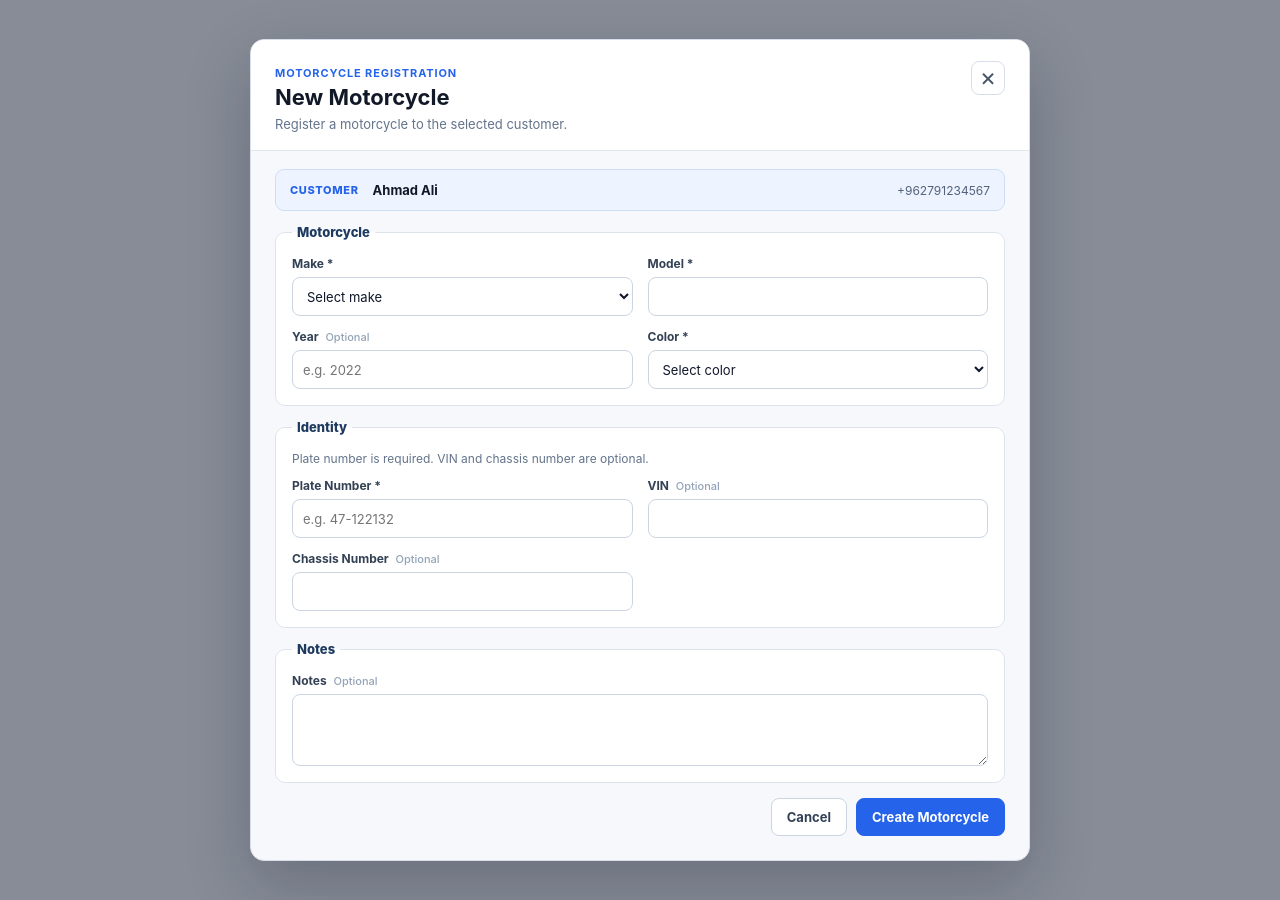
it: NewMotorcycleDialog › requires Make, Model, Color, and Plate Number
Click the button "Create Motorcycle". click: click(930, 817)
box: [856,798,1005,836]
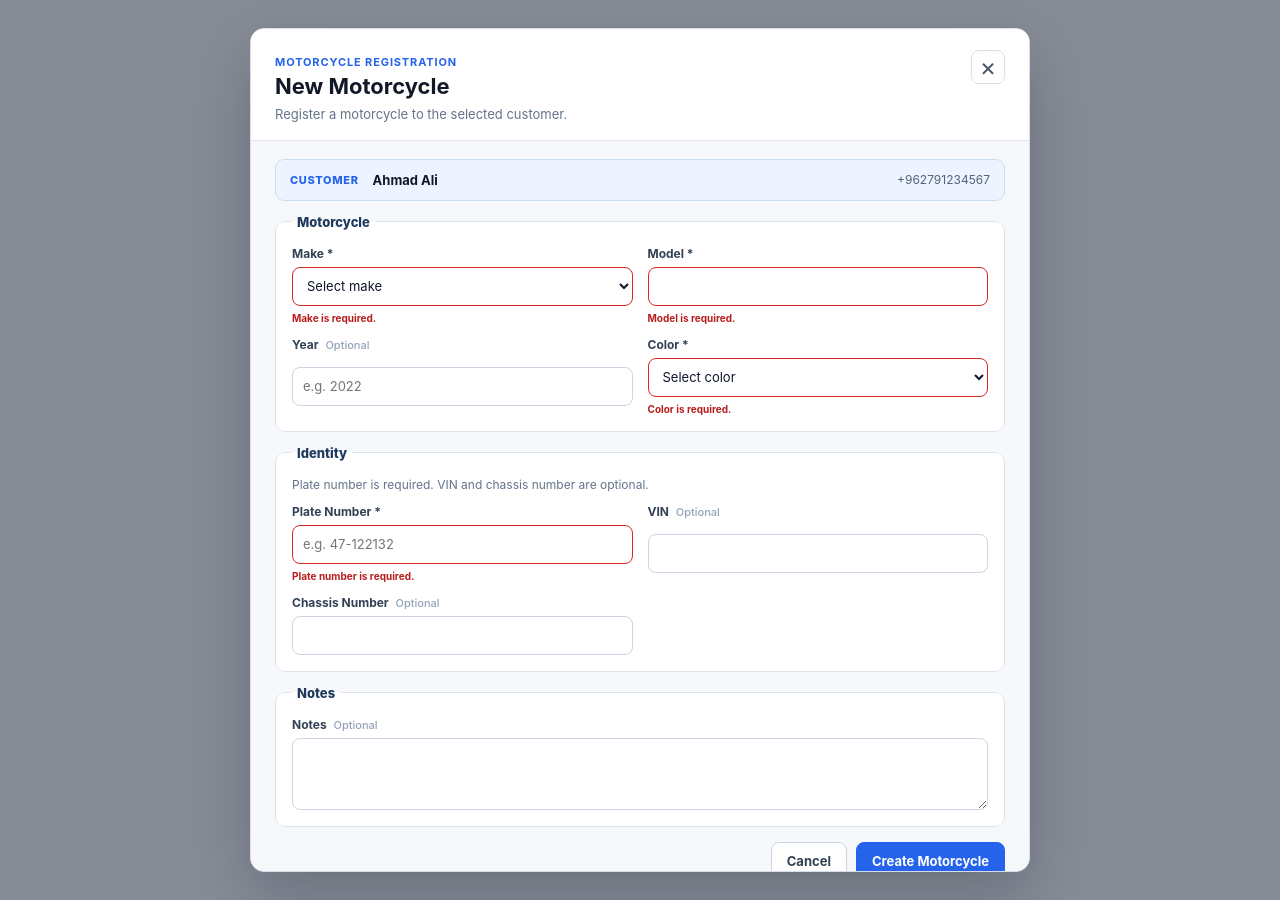
Result: the text "Make is required." is shown at [292,312,376,324]
Result: the text "Model is required." is shown at [648,312,735,324]
Result: the text "Color is required." is shown at [648,402,732,414]
